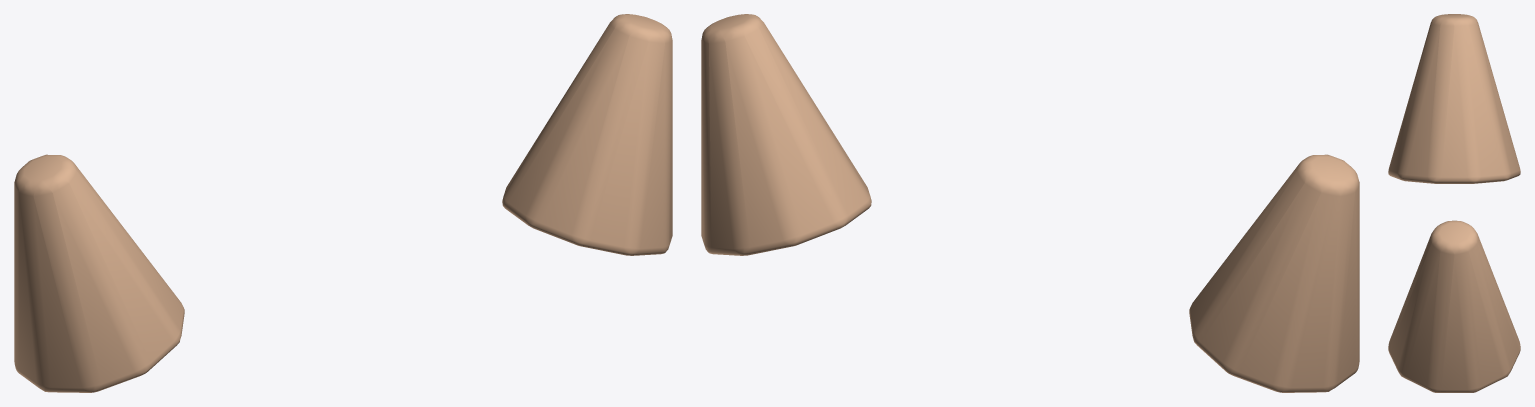
The model's file is Trait_Horns.fbx.
The picture shows the model from 3 angles, left to right: view 1: azimuth 30°, elevation 25°; view 2: azimuth 150°, elevation 25°; view 3: azimuth 270°, elevation 25°; orthographic projection. The views are drawn at different scales.
Visible parts, largest first — view 1: Horn.001, Horn; view 2: Horn.001, Horn; view 3: Horn, Horn.001.
Part boxes in pixels (left/top/right/bottom): Horn.001: left=14, top=154, right=184, bottom=392; Horn: left=502, top=14, right=672, bottom=255; Horn.001: left=1189, top=154, right=1359, bottom=392; Horn: left=701, top=14, right=871, bottom=255; Horn: left=1388, top=220, right=1520, bottom=392; Horn.001: left=1388, top=14, right=1520, bottom=183.
Size of the model in its own units: 47.88 by 15.27 by 11.42.
